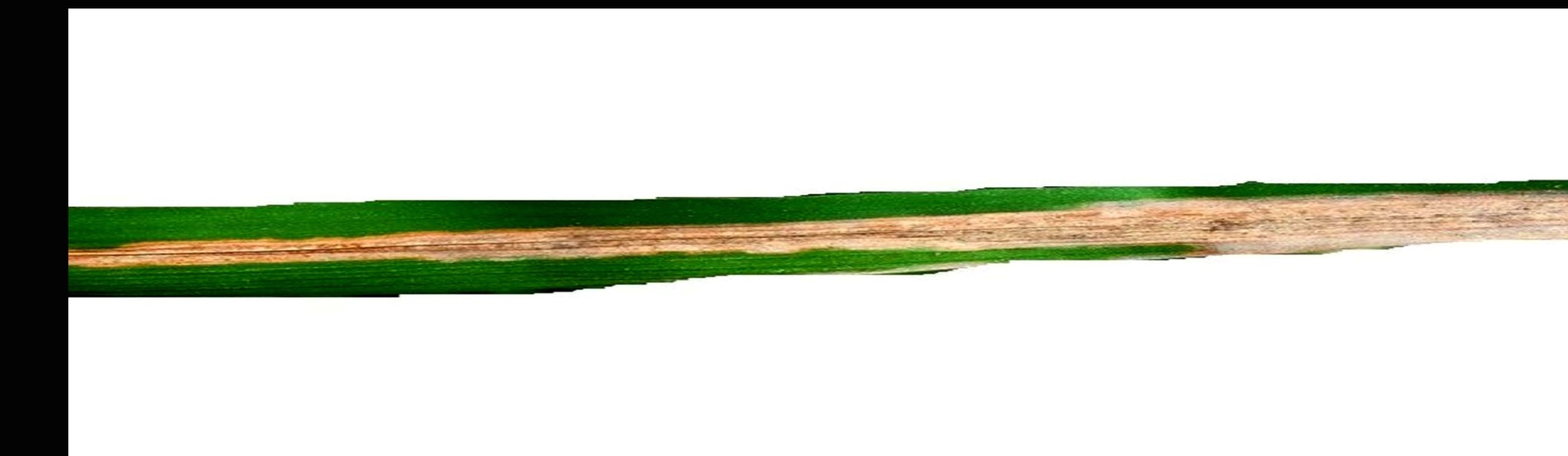Leaf_Blast: (71, 195, 1568, 276)
